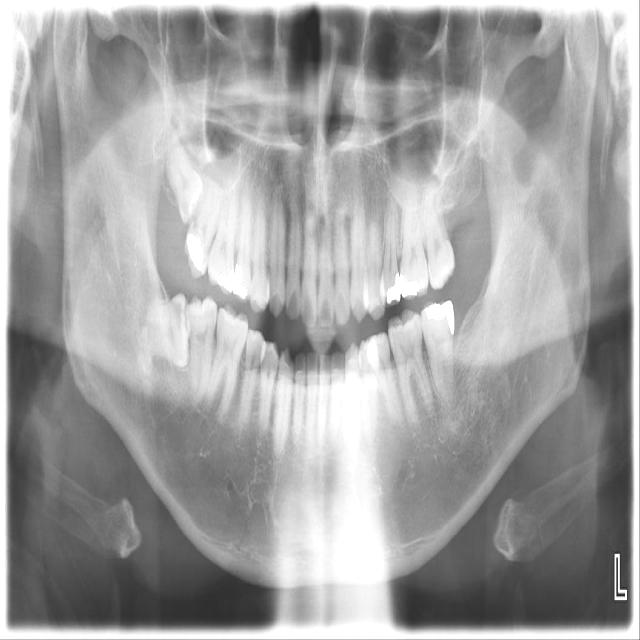Filling: (421, 298, 457, 332), (183, 233, 206, 273), (398, 272, 421, 299), (385, 270, 402, 304), (232, 264, 248, 299), (218, 270, 234, 292)
impacted tooth: (133, 294, 194, 369), (165, 122, 203, 222)
